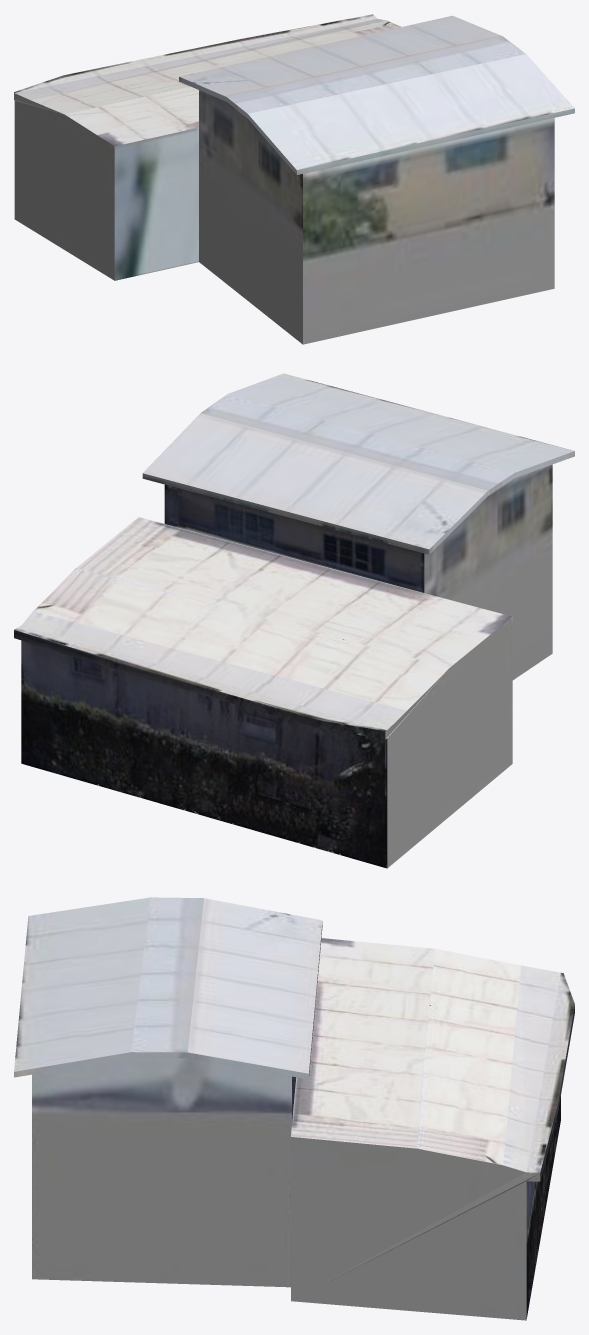
3 renders of one model, top to bottom at view 1: azimuth 30°, elevation 25°; view 2: azimuth 150°, elevation 25°; view 3: azimuth 270°, elevation 25°, orthographic. The views are drawn at different scales.
Parts seen in each view (by area): view 1: B281514041101062A0; view 2: B281514041101062A0; view 3: B281514041101062A0.
Boxes of the visible parts, box(x1,y1,x2,y2) form: B281514041101062A0: box(14, 14, 574, 344); B281514041101062A0: box(14, 373, 574, 868); B281514041101062A0: box(14, 897, 574, 1320).
Size of the model in its own units: 8.8 by 5.17 by 10.22.
Materials: 1 (1 with a texture image).
